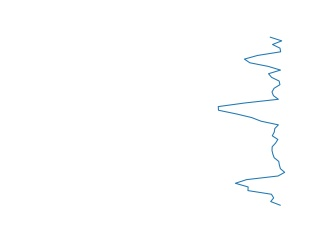underwaterNaturalLevee: (212, 36, 291, 207)
